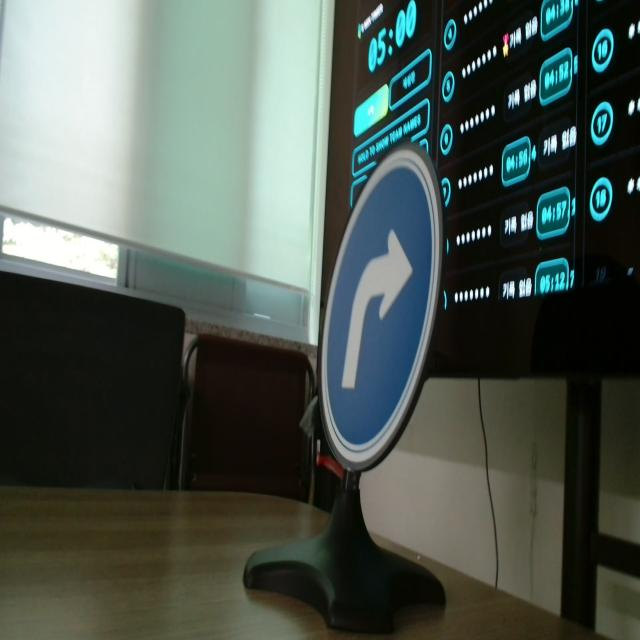right_dierection: (311, 143, 447, 473)
